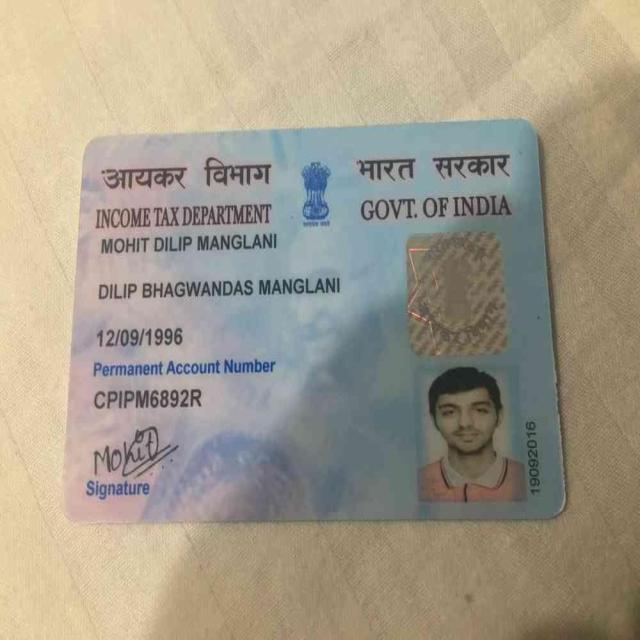pan_card: (68, 128, 554, 527)
